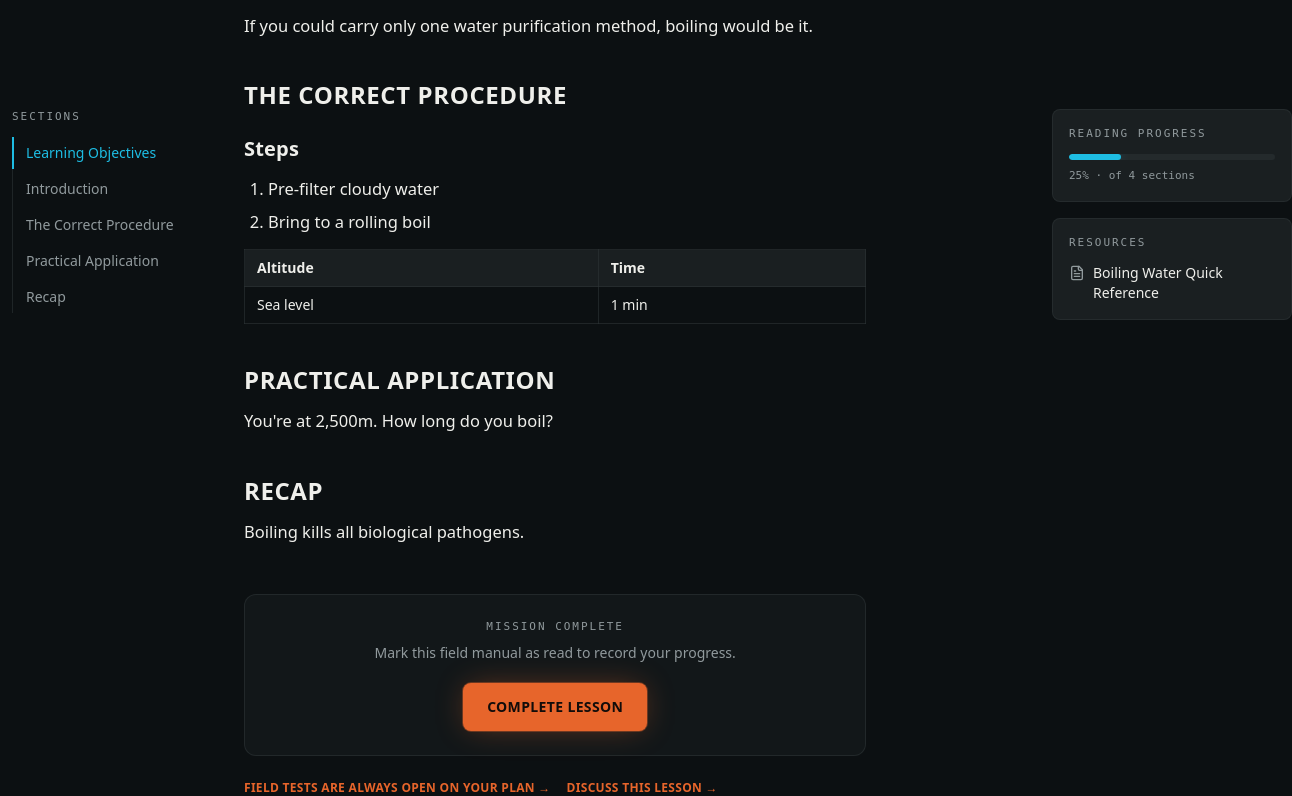
LessonPage › completion › surfaces DAILY_LESSON_LIMIT_REACHED with the reset/upgrade copy
(page scrolled)
Click the button "Complete lesson" at coordinates (555, 707), box [463,683,647,731]
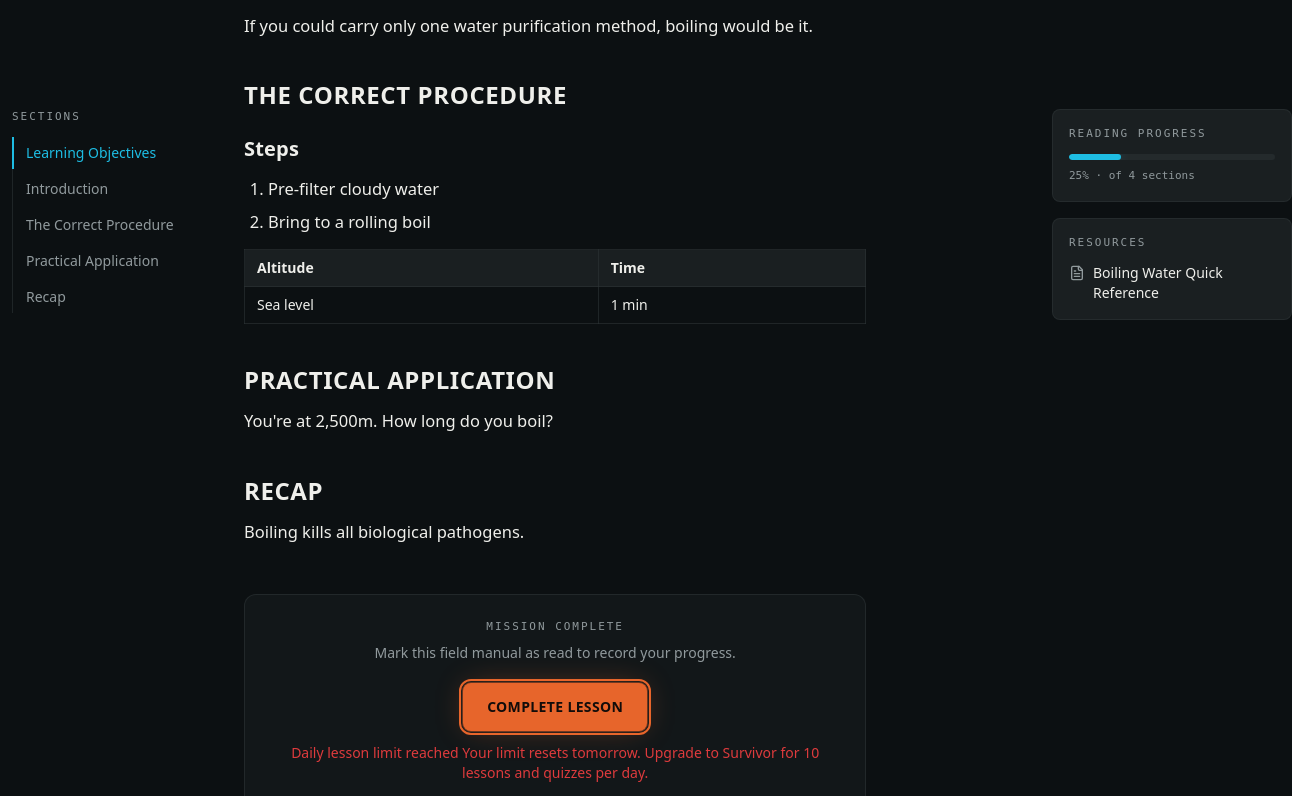
Result: the message shows "Daily lesson limit reached" at [291,743,459,762]
Result: the message shows "resets tomorrow" at [459,743,819,782]
Result: the message shows "Upgrade to Survivor" at [459,743,819,782]
